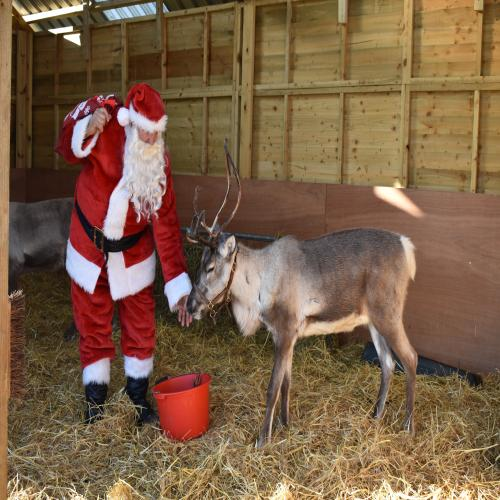Santa: (56, 81, 194, 425)
